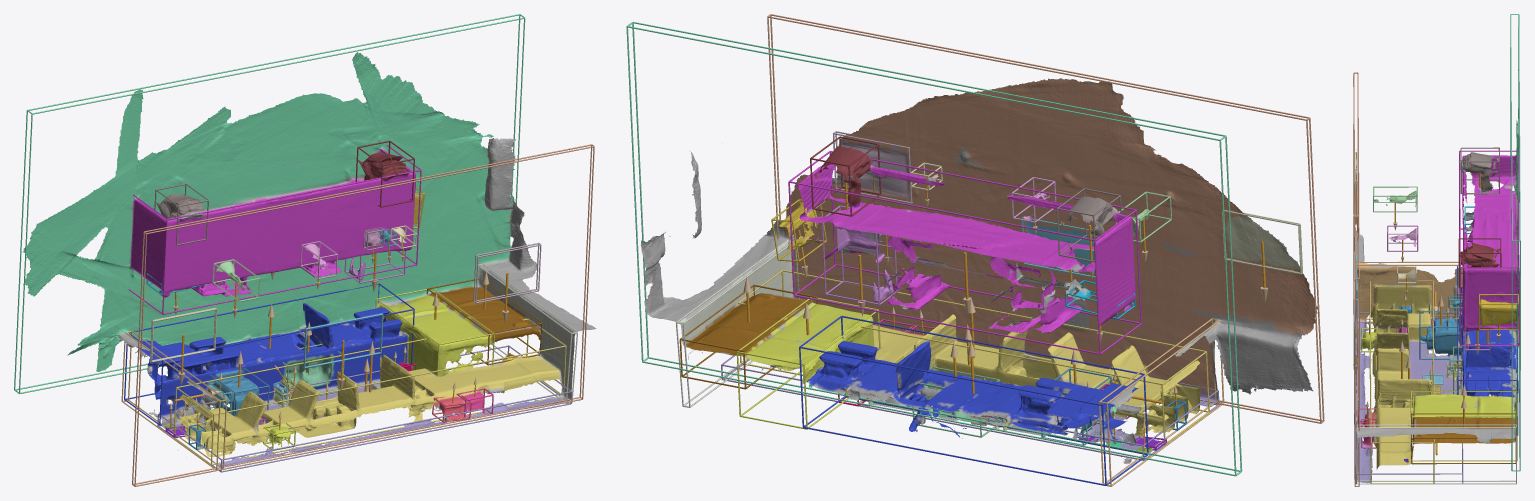
Rendered from scene_00025_01-obb.compressed.gltf.
3 renders of one model, left to right at view 1: azimuth 30°, elevation 25°; view 2: azimuth 150°, elevation 25°; view 3: azimuth 270°, elevation 25°, orthographic. The views are drawn at different scales.
Size of the model in its own units: 8.4 by 5.28 by 2.83.
